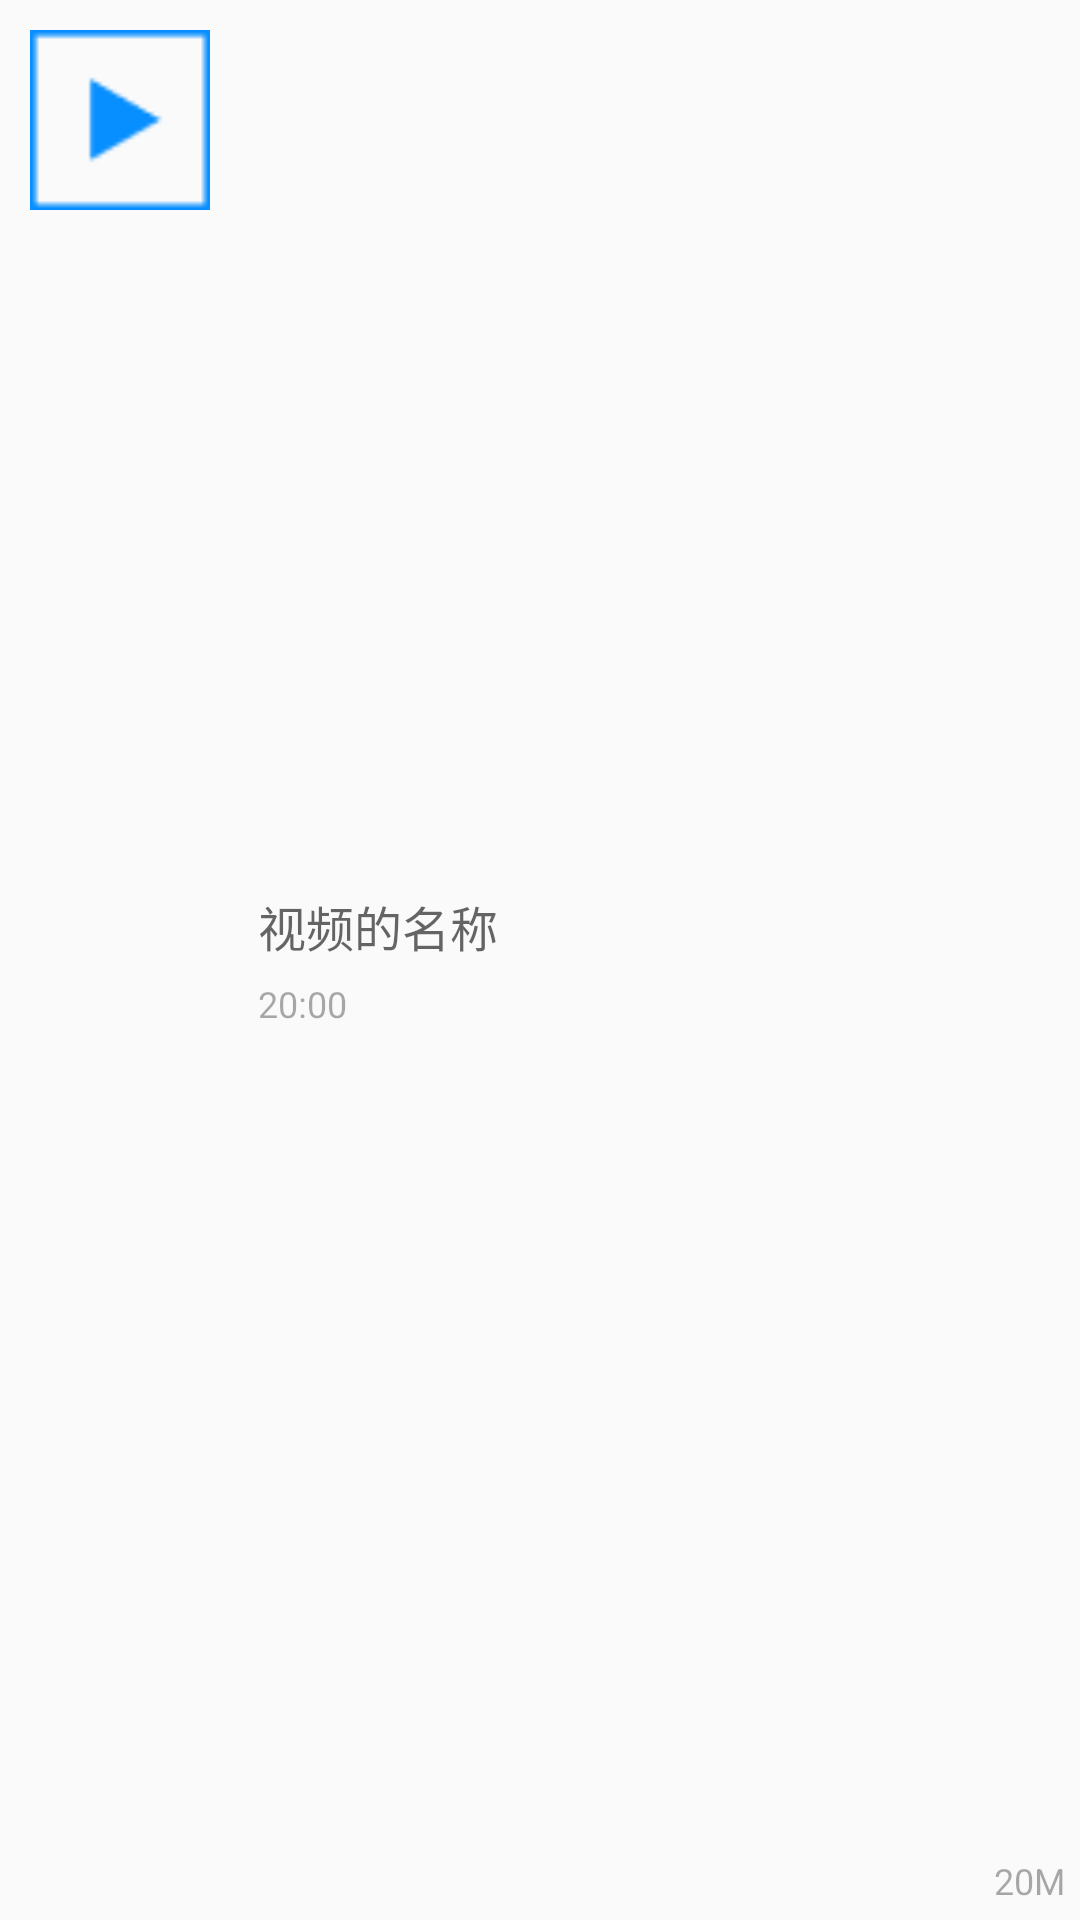

Locate icon controls on the screen. Image size 1080w x 1920h, boxes as (x1, y1, x2, y2).
video: (30, 30, 210, 210)
